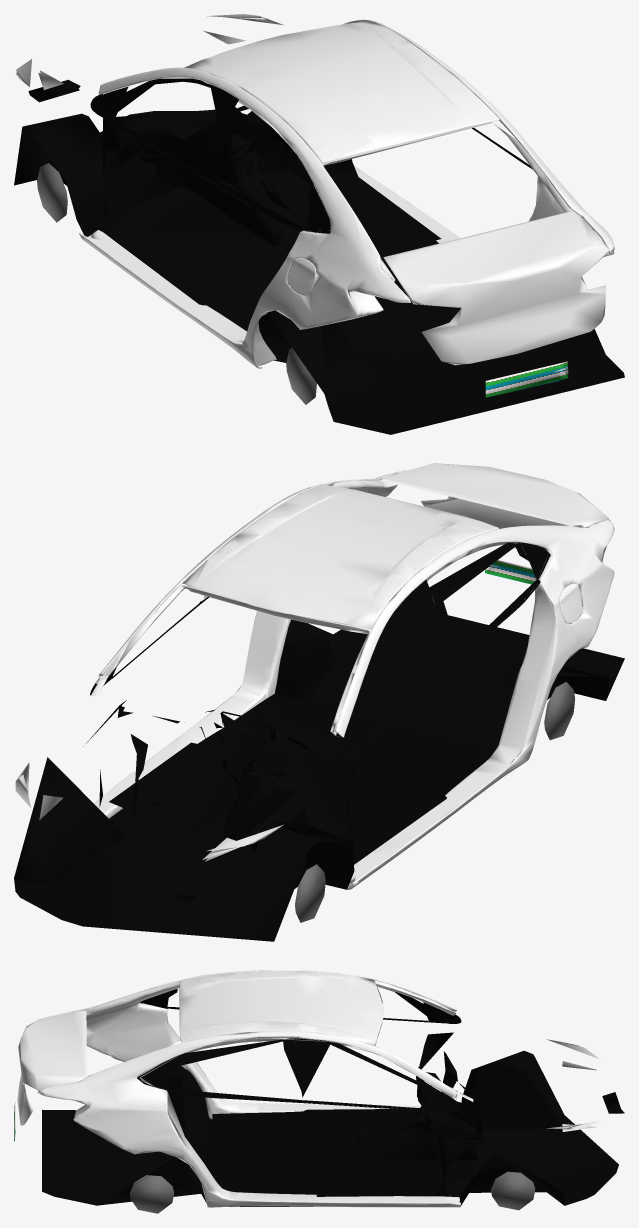
The model's file is onix-rs.glb.
3 renders of one model, top to bottom at view 1: azimuth 30°, elevation 25°; view 2: azimuth 150°, elevation 25°; view 3: azimuth 270°, elevation 25°, orthographic. The views are drawn at different scales.
Visible parts, largest first — view 1: onix_90_2, onix_90_5, onix_90_25, group_4.001, onix_90_1.007, frontbump, wheel.003, wheel.002, onix_90_1.002; view 2: onix_90_2, onix_90_25, onix_90_5, group_4.001, onix_90_1.007, wheel.002, wheel.003, frontbump, onix_90_1.002; view 3: onix_90_2, onix_90_25, onix_90_5, onix_90_1.006, group_4.001, wheel.001, wheel, onix_90_1.007, onix_90_1.001.
Boxes of the visible parts, <box> form: onix_90_2: <box>79,19,614,368</box>; onix_90_5: <box>102,105,455,334</box>; onix_90_25: <box>14,111,624,434</box>; group_4.001: <box>383,211,609,365</box>; onix_90_1.007: <box>90,78,330,233</box>; frontbump: <box>485,361,568,397</box>; wheel.003: <box>37,163,67,222</box>; wheel.002: <box>286,348,316,404</box>; onix_90_1.002: <box>16,72,80,102</box>; onix_90_2: <box>90,470,614,889</box>; onix_90_25: <box>14,605,624,941</box>; onix_90_5: <box>83,693,496,864</box>; group_4.001: <box>382,463,608,559</box>; onix_90_1.007: <box>339,542,550,756</box>; wheel.002: <box>544,682,575,740</box>; wheel.003: <box>295,864,325,922</box>; frontbump: <box>485,560,539,584</box>; onix_90_1.002: <box>135,841,257,903</box>; onix_90_2: <box>37,970,473,1207</box>; onix_90_25: <box>42,1050,618,1206</box>; onix_90_5: <box>212,1032,483,1196</box>; onix_90_1.006: <box>137,1038,461,1112</box>; group_4.001: <box>17,1011,86,1125</box>; wheel.001: <box>130,1175,174,1213</box>; wheel: <box>491,1171,535,1210</box>; onix_90_1.007: <box>139,986,461,1023</box>; onix_90_1.001: <box>547,1039,599,1069</box>.
Bounding box in the file's own units: 1.85 × 1.4 × 4.66.
Materials: 7 (1 with a texture image).
